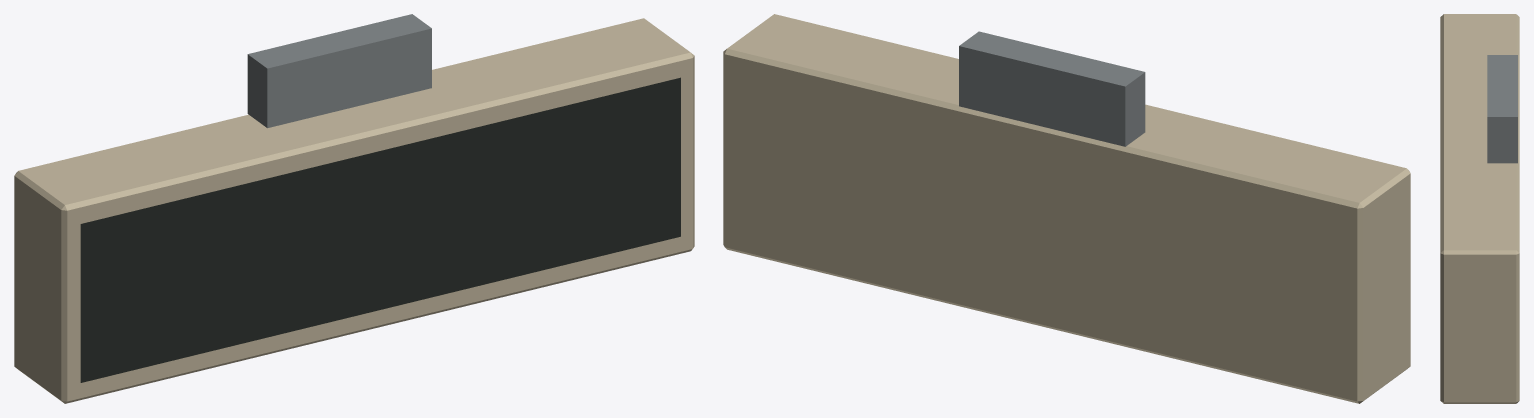
Rendered from exit_sign.glb.
The picture shows the model from 3 angles, left to right: view 1: azimuth 30°, elevation 25°; view 2: azimuth 150°, elevation 25°; view 3: azimuth 270°, elevation 25°; orthographic projection. The views are drawn at different scales.
Visible parts, largest first — view 1: Cara apagada, Carcasa, Soporte; view 2: Carcasa, Soporte; view 3: Carcasa, Soporte.
Boxes of the visible parts, bbox=[...] form: Cara apagada: bbox=[80, 77, 680, 382]; Carcasa: bbox=[14, 18, 694, 403]; Soporte: bbox=[247, 14, 431, 128]; Carcasa: bbox=[723, 14, 1410, 403]; Soporte: bbox=[959, 31, 1145, 146]; Carcasa: bbox=[1440, 14, 1519, 403]; Soporte: bbox=[1487, 55, 1517, 163].
Size of the model in its own units: 0.5 by 0.195 by 0.071.
